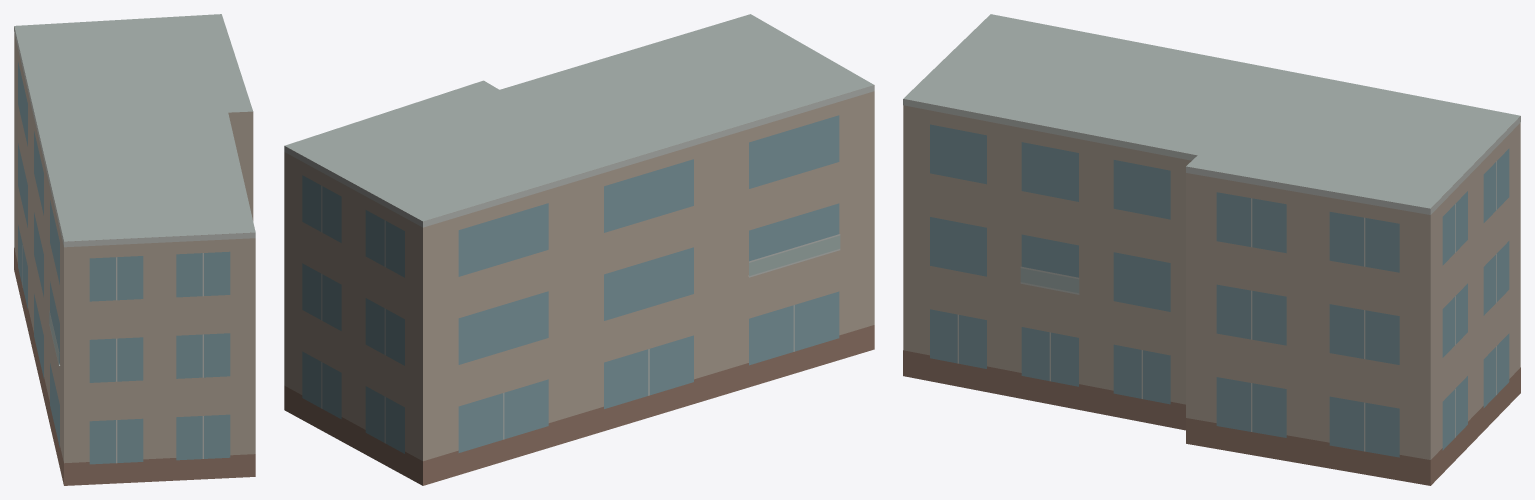
Rendered from survey-upis-32999027.glb.
3 renders of one model, left to right at view 1: azimuth 30°, elevation 25°; view 2: azimuth 150°, elevation 25°; view 3: azimuth 270°, elevation 25°, orthographic. The views are drawn at different scales.
Visible parts, largest first — view 1: survey-upis-32999027.tmp; view 2: survey-upis-32999027.tmp; view 3: survey-upis-32999027.tmp.
Boxes of the visible parts, x1=… form: survey-upis-32999027.tmp: x1=14, y1=14, x2=255, y2=485; survey-upis-32999027.tmp: x1=284, y1=14, x2=874, y2=485; survey-upis-32999027.tmp: x1=903, y1=14, x2=1520, y2=485.
Size of the model in its own units: 15.82 by 10.5 by 21.21.
